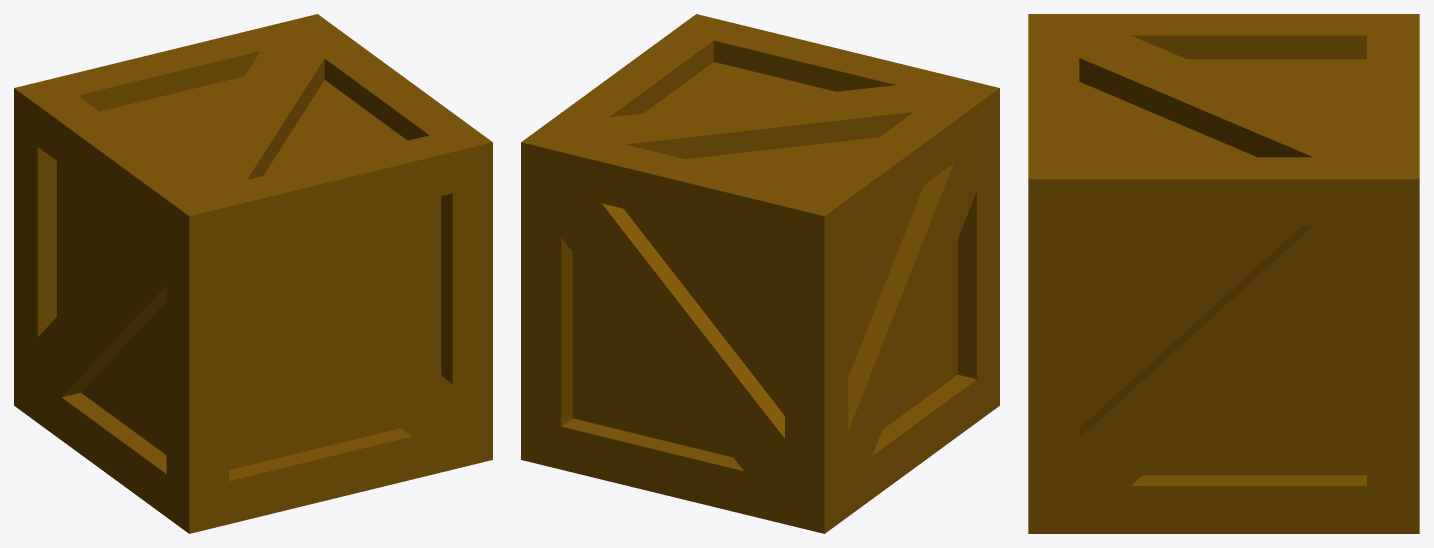
The picture shows the model from 3 angles, left to right: view 1: azimuth 30°, elevation 25°; view 2: azimuth 150°, elevation 25°; view 3: azimuth 270°, elevation 25°; orthographic projection. The views are drawn at different scales.
Visible parts, largest first — view 1: Box; view 2: Box; view 3: Box.
Part boxes in pixels (box(x1,y1,x2,y2)): Box: box(14, 14, 492, 533); Box: box(521, 14, 999, 533); Box: box(1028, 14, 1419, 533).
Bounding box in the file's own units: 11.04 × 11.04 × 11.04.
